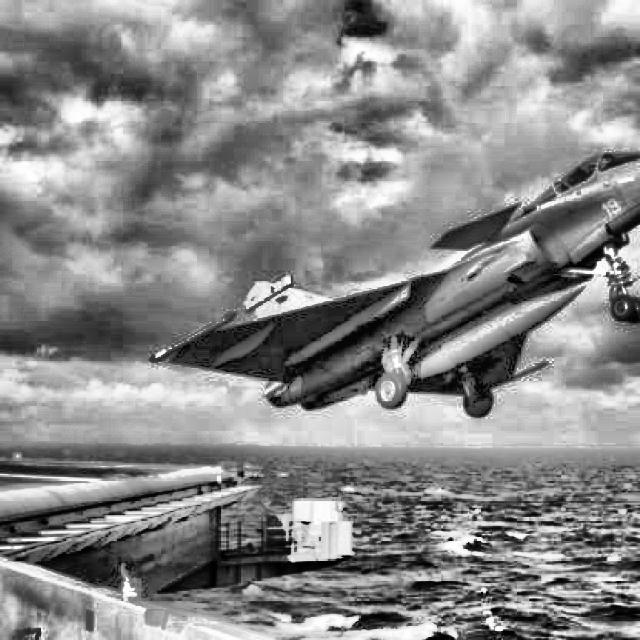Rafale: (150, 152, 639, 418)
